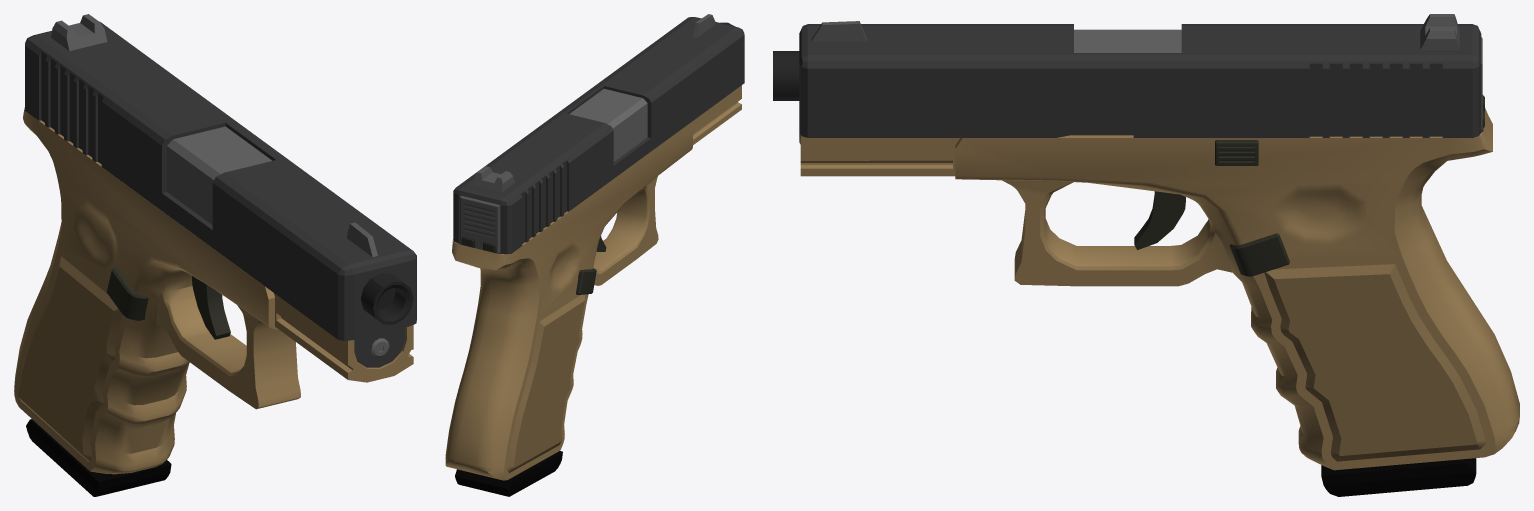
Rendered from GlockPickup.glb.
3 views of the same model, side by side, from view 1: azimuth 30°, elevation 25°; view 2: azimuth 150°, elevation 25°; view 3: azimuth 270°, elevation 25° (orthographic). The views are drawn at different scales.
Visible parts, largest first — view 1: Body; view 2: Body; view 3: Body.
Boxes of the visible parts, box(x1,y1,x2,y2) form: Body: box(14, 14, 416, 496); Body: box(445, 14, 744, 496); Body: box(773, 14, 1519, 496).
Size of the model in its own units: 0.6827 by 3.16 by 4.67.
